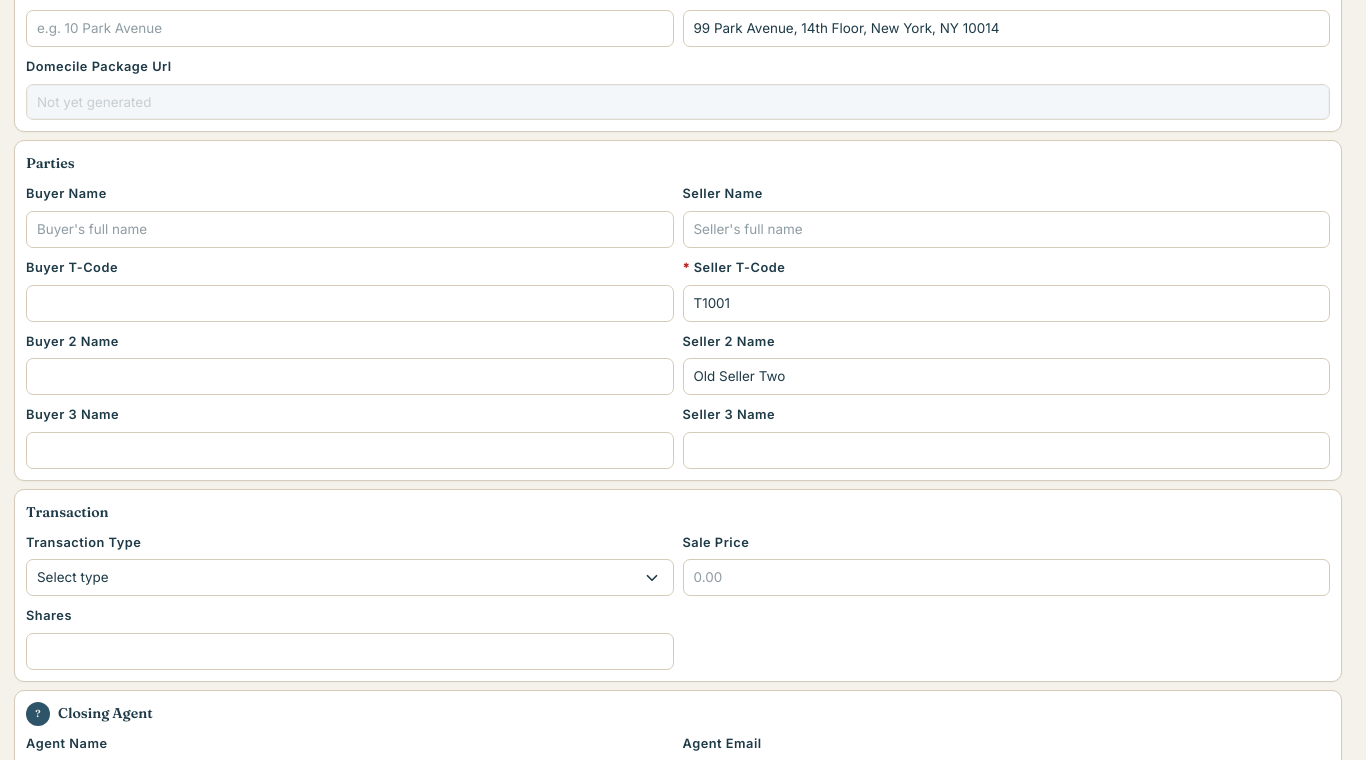
Test: EditClosingTicketForm › shows N/A for a cleared party name after save completes
The width and height of the screenshot is (1366, 760).
(page scrolled)
Clear the field labelled "Seller 2 Name": (1006, 377) [682,358,1330,395]
(page scrolled)
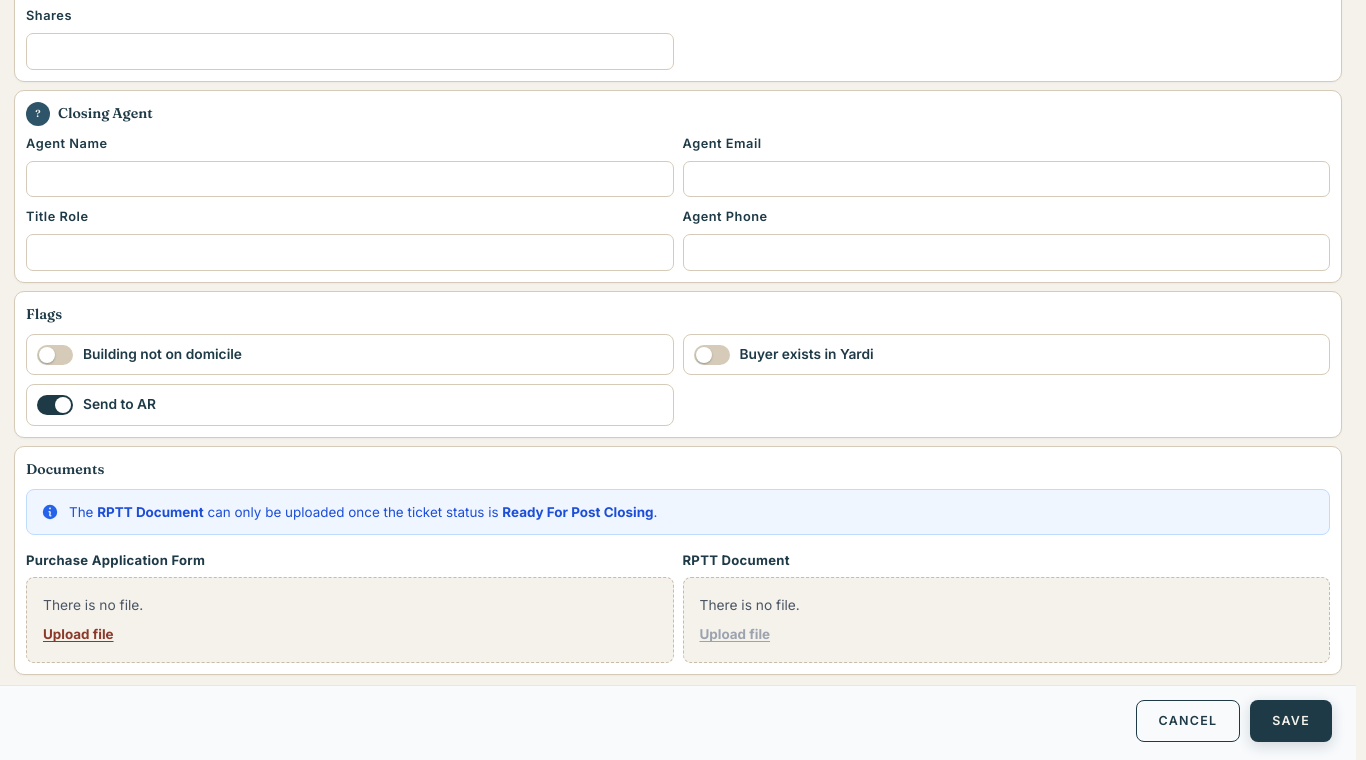
Click the button "Save": (1291, 721) [1250,700,1332,742]
(page scrolled)
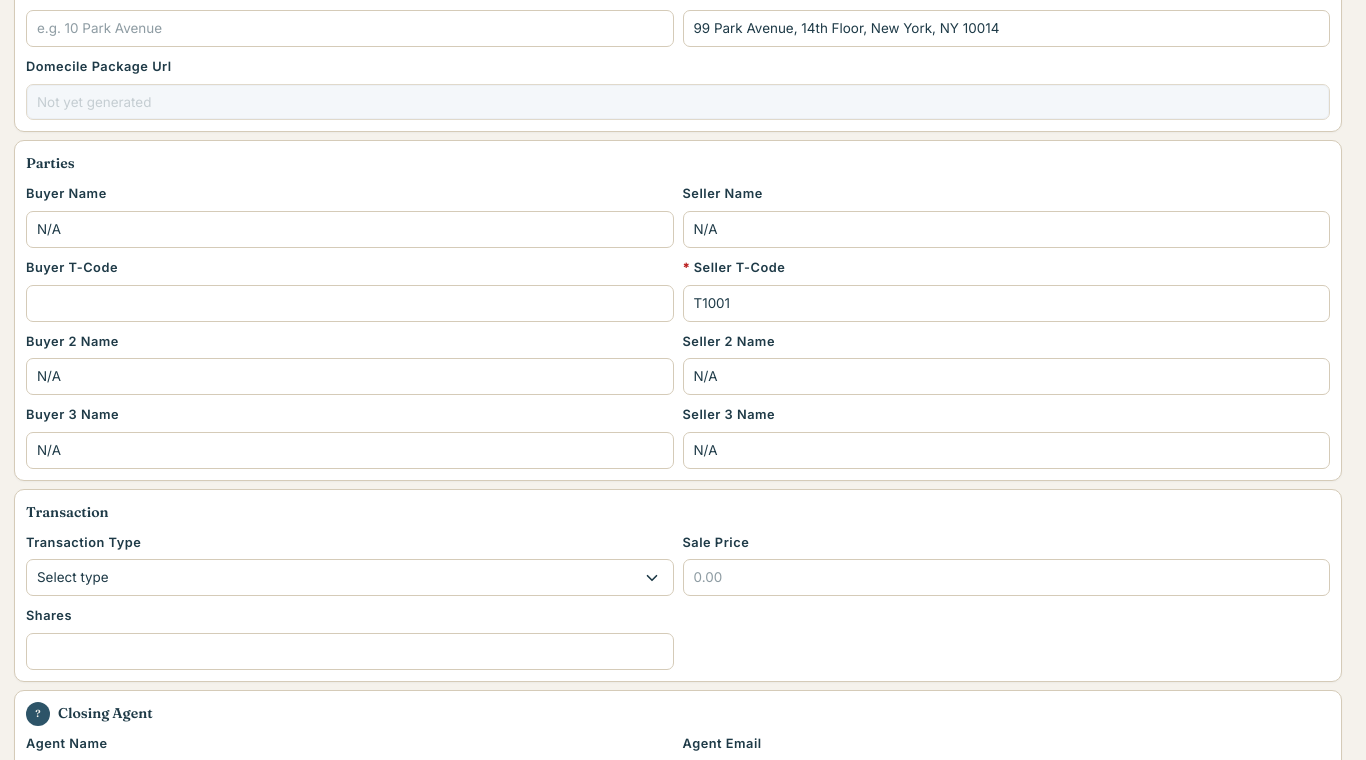
expect the field labelled "Seller 2 Name" holds "N/A": met, box [682,358,1330,395]
